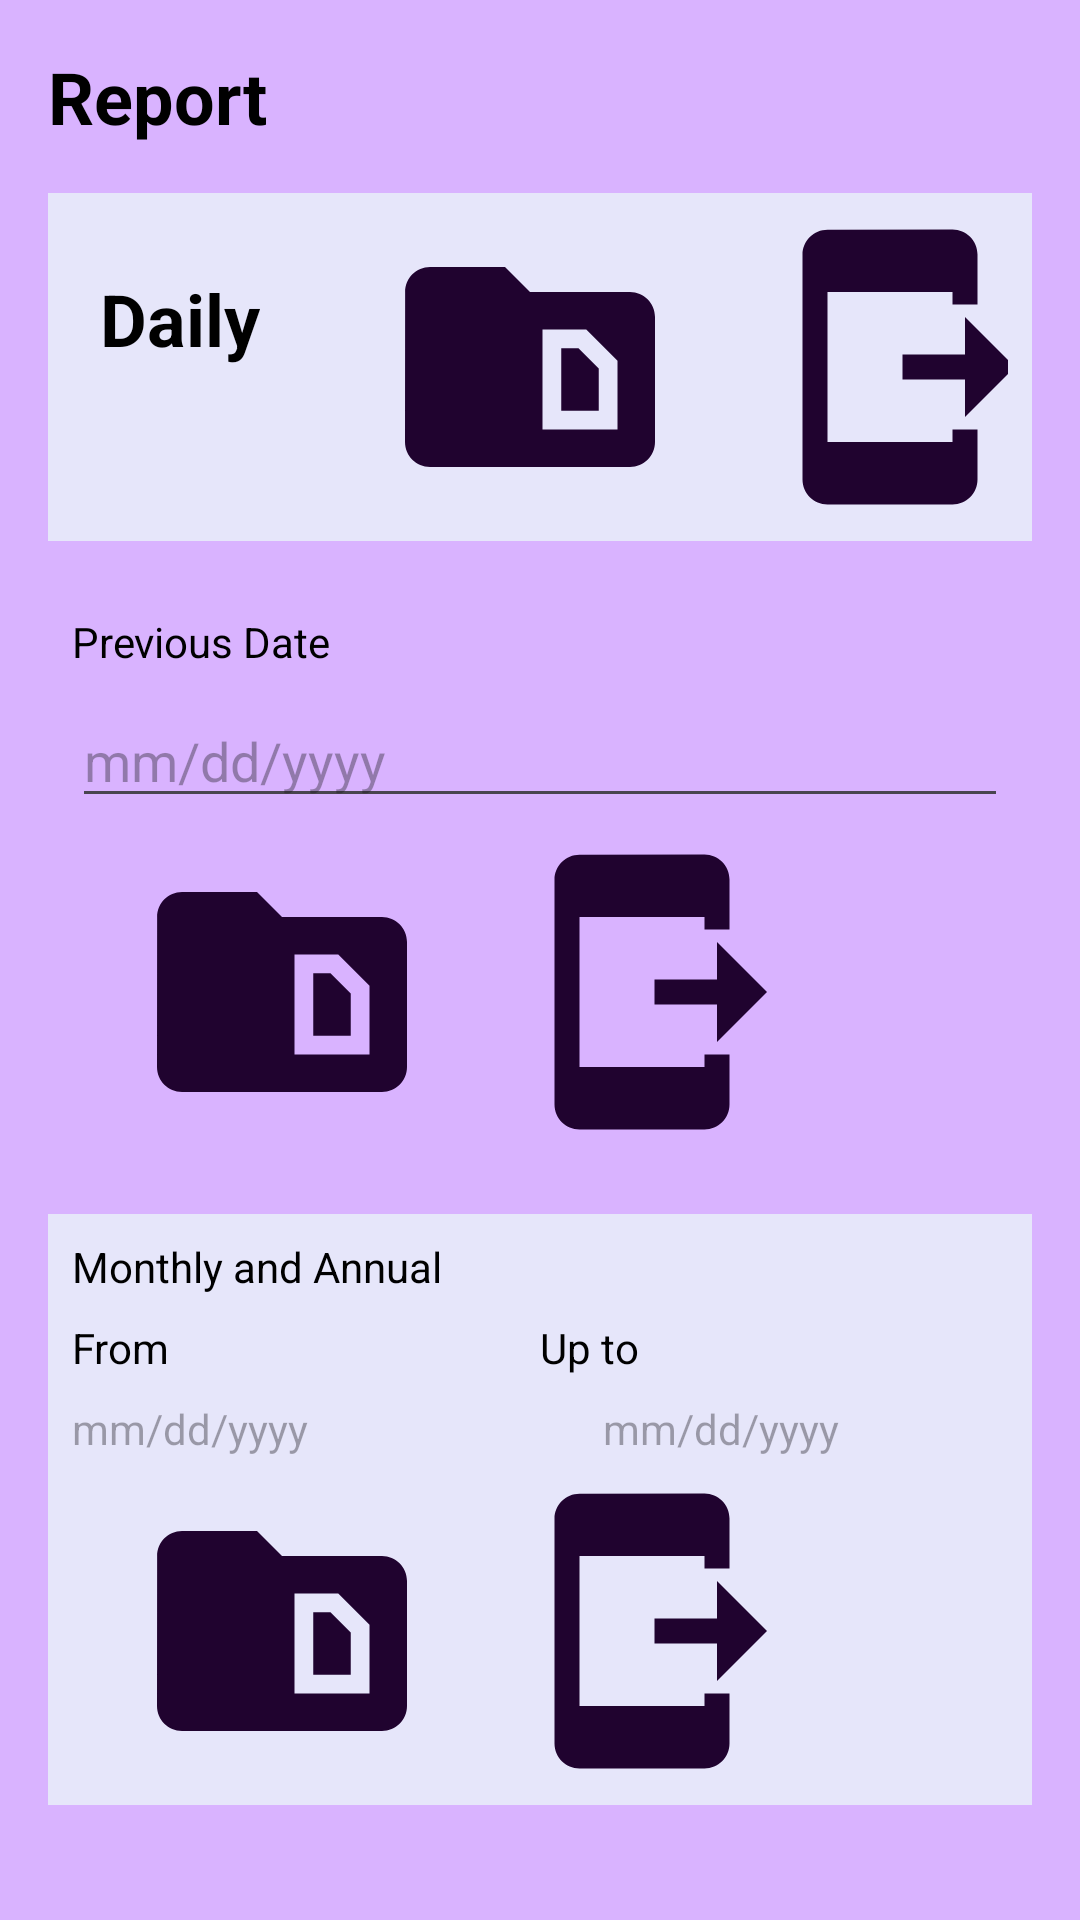

Icon click points for this 1080 x 1920 phone screenshot, format [x,y]:
Closes: [905,367], [660,992], [660,1631]
